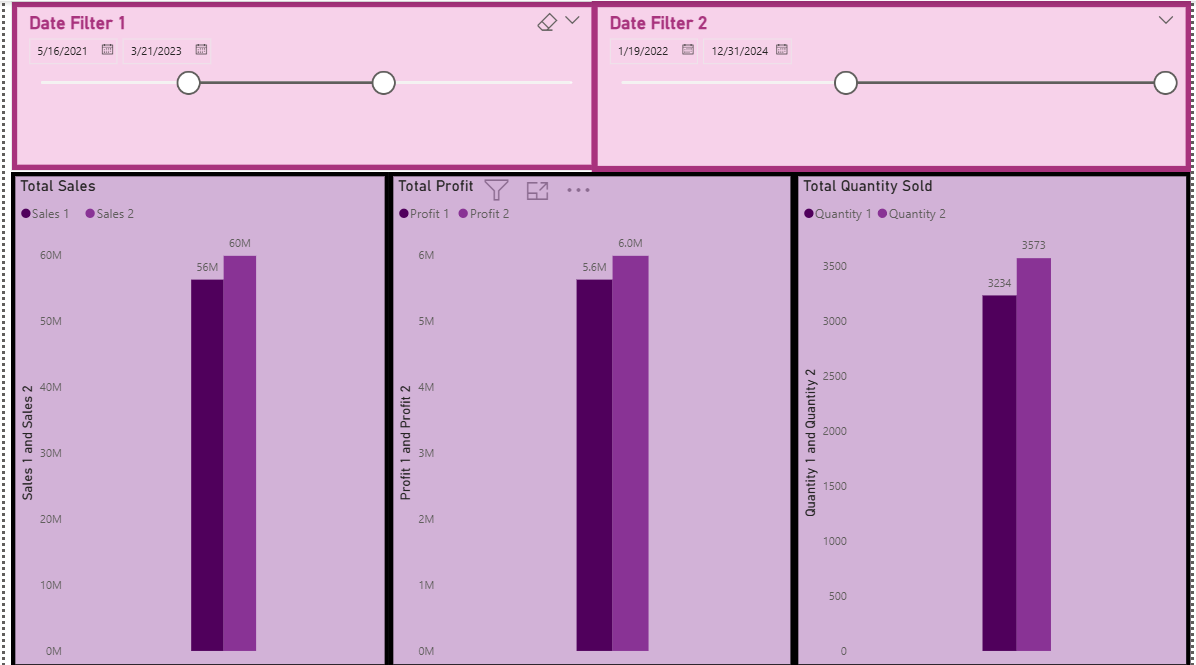

This screenshot's page, from the dashboard's own definition file:
{"tool":"powerbi","page":{"name":"comp sales profit quantity ","canvas":[1280,720],"ordinal":2},"visuals":[{"type":"slicer","fields":{"Values":["Date Table 1.Date"]},"box":[6.7,0,633.3,183.3],"z":0},{"type":"slicer","fields":{"Values":["Date Table 2.Date"]},"box":[633.1,0,647.7,184.6],"z":1000},{"type":"clusteredColumnChart","title":"Total Sales","fields":{"Y":["Sum(Fact Table.Net Sales       )","Date Table 1.Sum Of Net Sales"]},"box":[6,184,408,536],"z":2000},{"type":"clusteredColumnChart","title":"Total Profit  ","fields":{"Y":["Sum(Fact Table.Profit )","Measures Table.Total Profit"]},"box":[414,184,438,536],"z":3000},{"type":"clusteredColumnChart","title":"Total Quantity Sold","fields":{"Y":["Sum(Fact Table.Units Sold)","Measures Table.Quantity Sold"]},"box":[852,184,428,536],"z":4000}]}

Visuals, with their boxes in screenshot pixels (x1, y1, x2, y2), scaled from the page's 1280x720 canvas onto the 1196x665 screenshot:
slicer - Date Table 1.Date: region(6, 0, 598, 169)
slicer - Date Table 2.Date: region(592, 0, 1195, 170)
"Total Sales" clusteredColumnChart: region(6, 170, 387, 664)
"Total Profit  " clusteredColumnChart: region(387, 170, 796, 664)
"Total Quantity Sold" clusteredColumnChart: region(796, 170, 1195, 664)
